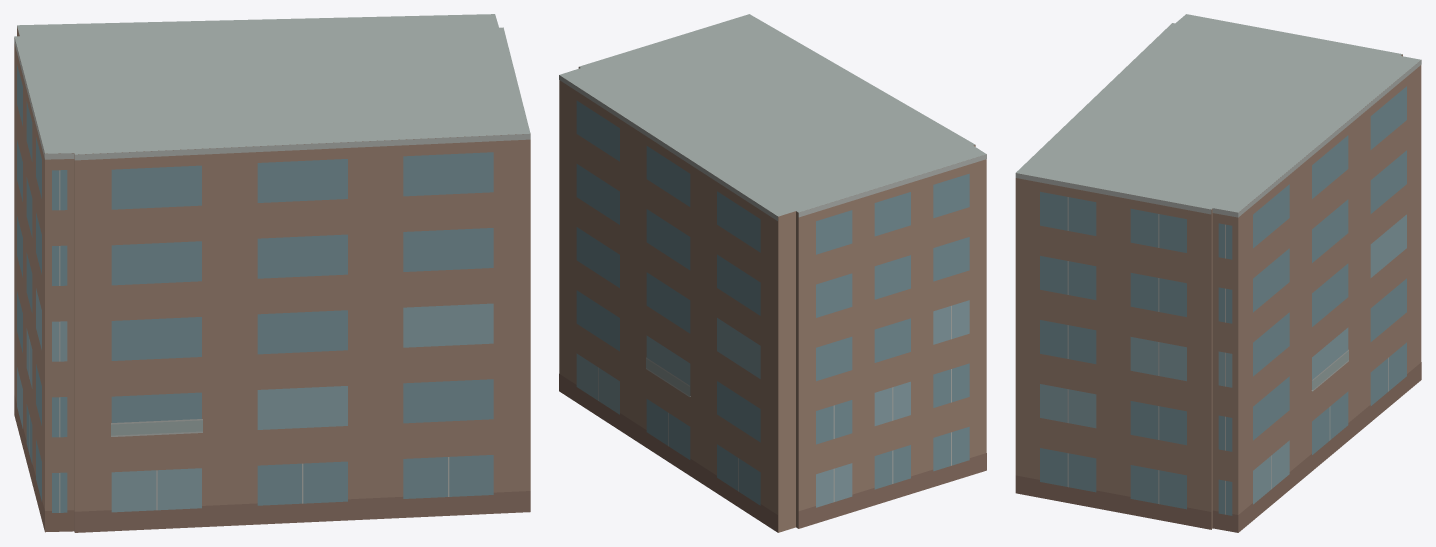
Rendered from survey-upis-32659019.glb.
3 renders of one model, left to right at view 1: azimuth 30°, elevation 25°; view 2: azimuth 150°, elevation 25°; view 3: azimuth 270°, elevation 25°, orthographic. The views are drawn at different scales.
Visible parts, largest first — view 1: survey-upis-32659019.tmp; view 2: survey-upis-32659019.tmp; view 3: survey-upis-32659019.tmp.
Part boxes in pixels (box(x1,y1,x2,y2)): survey-upis-32659019.tmp: box(14, 14, 530, 532); survey-upis-32659019.tmp: box(559, 14, 986, 532); survey-upis-32659019.tmp: box(1015, 14, 1421, 532).
Bounding box in the file's own units: 21.02 × 15.8 × 18.16.
